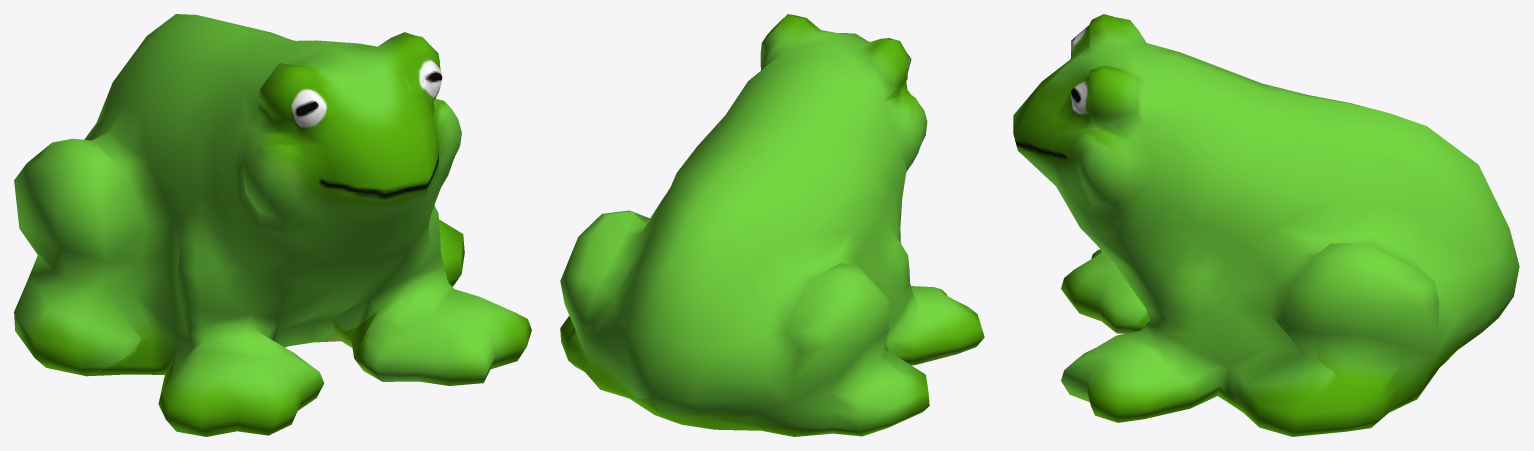
The model's file is Froggy.fbx.
The picture shows the model from 3 angles, left to right: view 1: azimuth 30°, elevation 25°; view 2: azimuth 150°, elevation 25°; view 3: azimuth 270°, elevation 25°; orthographic projection. The views are drawn at different scales.
Parts seen in each view (by area): view 1: Plane; view 2: Plane; view 3: Plane.
Part boxes in pixels (box(x1,y1,x2,y2)): Plane: box(14, 14, 531, 436); Plane: box(560, 14, 984, 436); Plane: box(1013, 14, 1519, 436).
Size of the model in its own units: 130 by 100 by 148.
